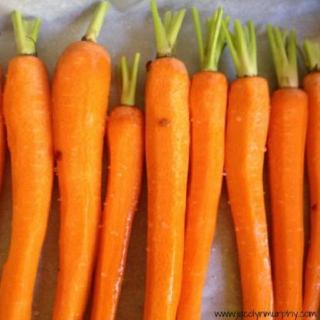carrot: (52, 42, 108, 320), (5, 56, 58, 320), (226, 75, 278, 320), (143, 57, 190, 320), (263, 84, 311, 320), (93, 103, 143, 320), (186, 66, 223, 320)
